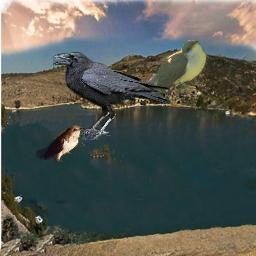Crow: (53, 52, 172, 140)
Cuckoo: (118, 40, 206, 102), (36, 125, 87, 162)
